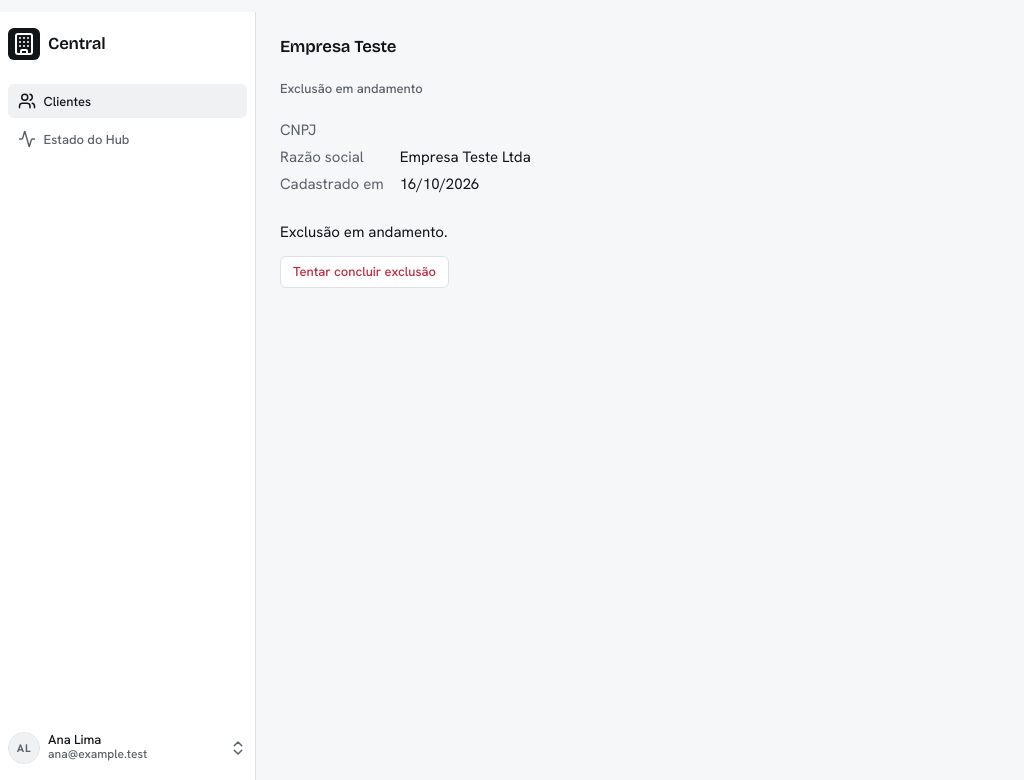
Test: Tentar concluir exclusão manda o mesmo nome e revisão, sem pedir o nome, e termina em "Cliente apagado."
The width and height of the screenshot is (1024, 780).
Click the button "Tentar concluir exclusão".
click(365, 272)  # box 280,256 -> 449,288
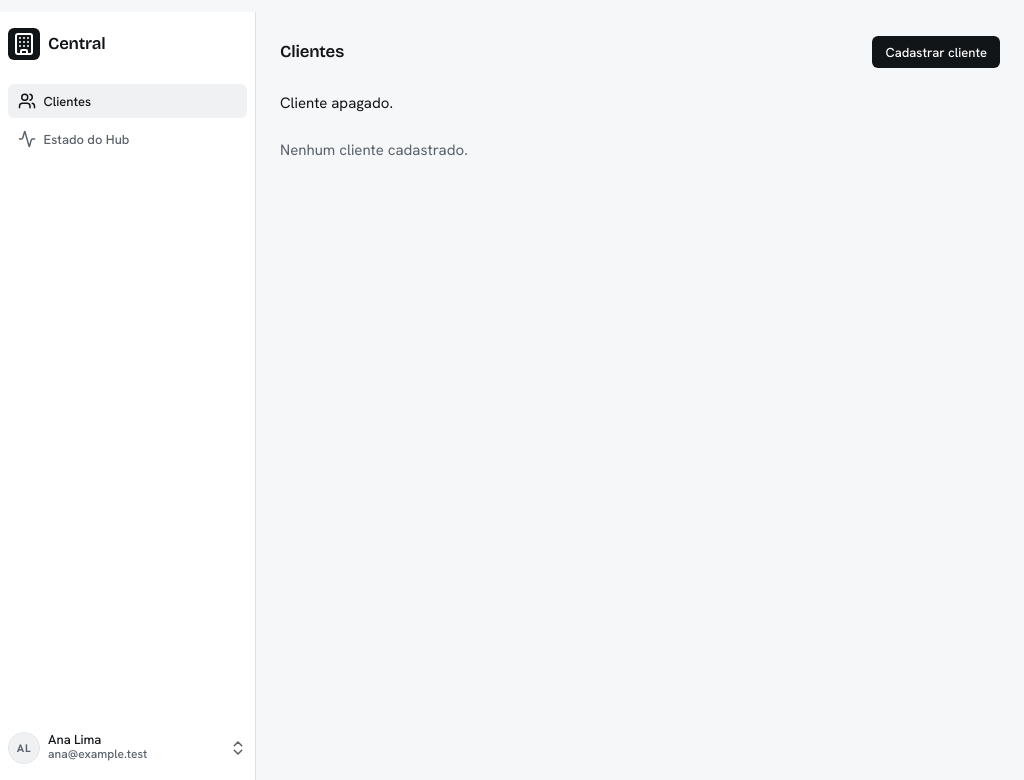
Now the text "Cliente apagado." is shown, box 280,93 -> 393,113
